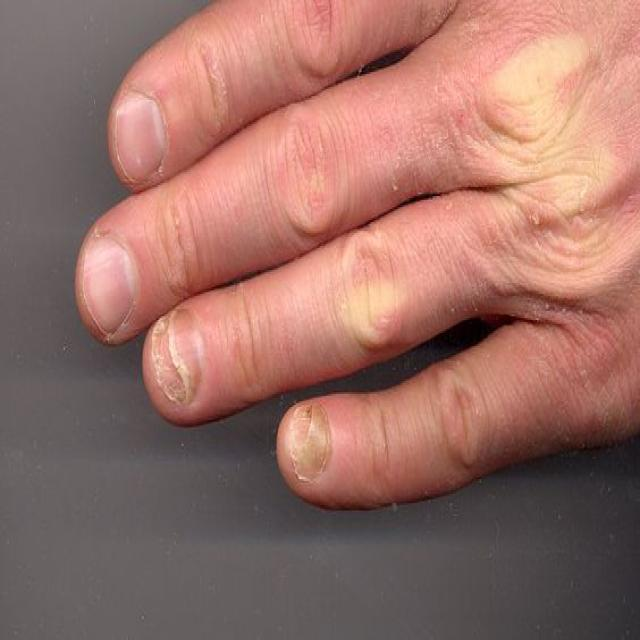Fingernail: (84, 236, 137, 333), (115, 93, 165, 181), (170, 310, 201, 403), (296, 406, 329, 482)
